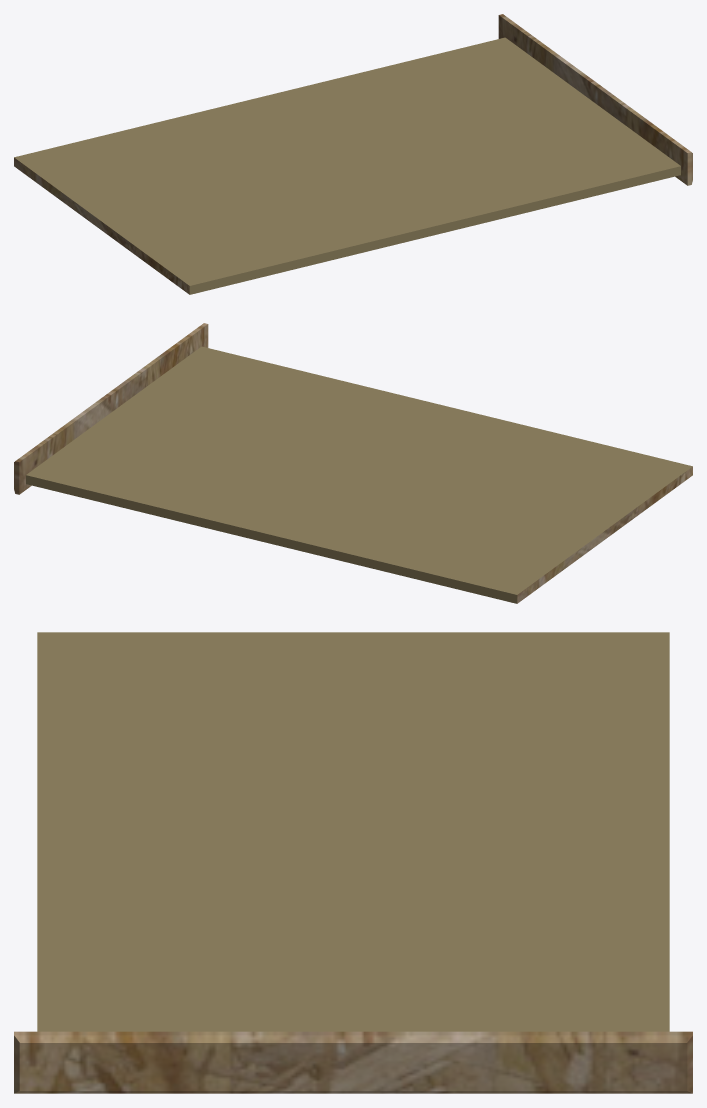
Rendered from Drawer.gltf.
The picture shows the model from 3 angles, top to bottom: view 1: azimuth 30°, elevation 25°; view 2: azimuth 150°, elevation 25°; view 3: azimuth 270°, elevation 25°; orthographic projection. The views are drawn at different scales.
Parts seen in each view (by area): view 1: Drawer; view 2: Drawer; view 3: Drawer.
Part boxes in pixels (x1,y1,x2,y2): Drawer: (14, 14, 692, 294); Drawer: (14, 323, 692, 603); Drawer: (14, 632, 692, 1093).
Size of the model in its own units: 0.8004 by 0.0501 by 0.5254.
Materials: 2 (1 with a texture image).
